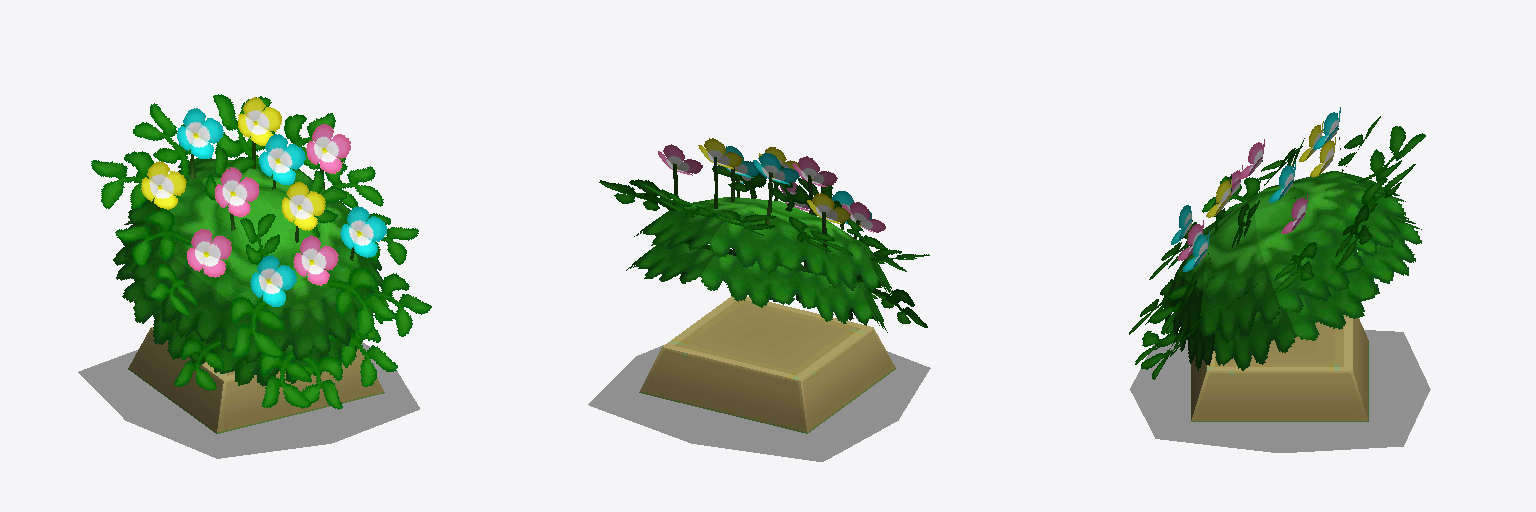
3 views of the same model, side by side, from view 1: azimuth 30°, elevation 25°; view 2: azimuth 150°, elevation 25°; view 3: azimuth 270°, elevation 25° (orthographic).
Parts seen in each view (by area): view 1: polySurface1; view 2: polySurface1; view 3: polySurface1.
Part boxes in pixels (bbox=[...]): polySurface1: bbox=[78, 94, 431, 458]; polySurface1: bbox=[588, 138, 930, 461]; polySurface1: bbox=[1129, 107, 1430, 452].
Bounding box in the file's own units: 2.58 × 2.3 × 2.46.
2 materials, 1 textured.